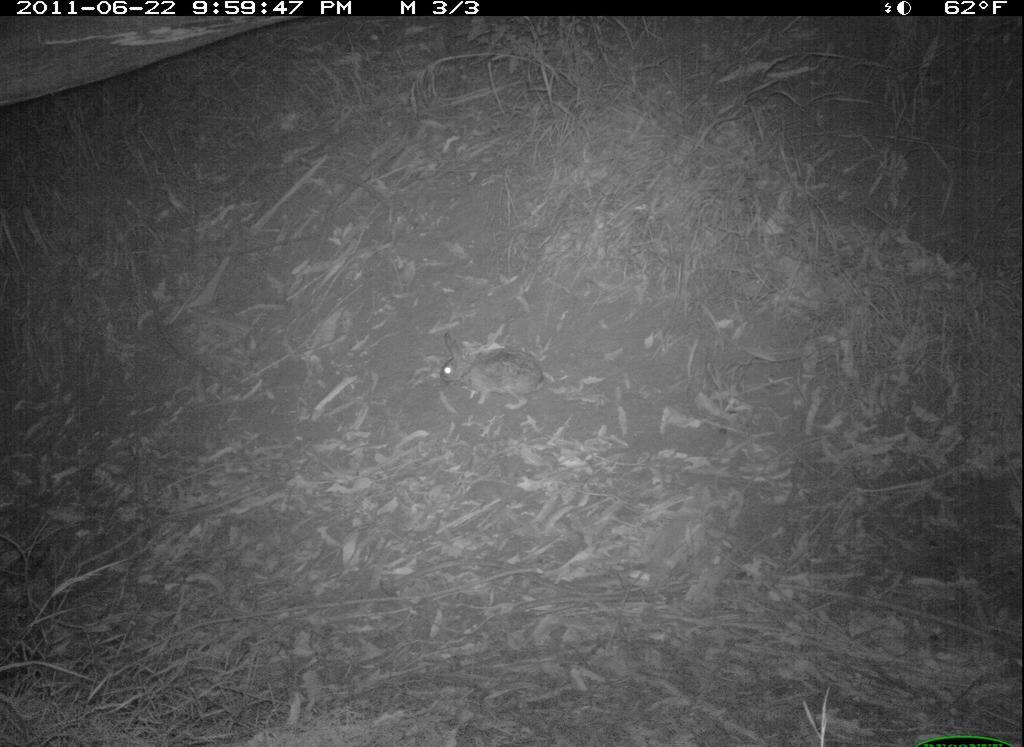rabbit: (433, 323, 562, 420)
